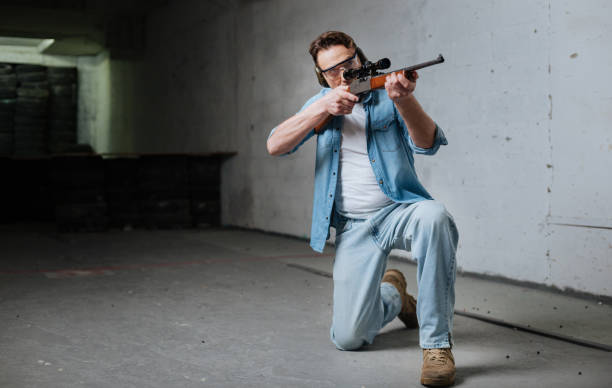gun: (341, 54, 445, 97)
